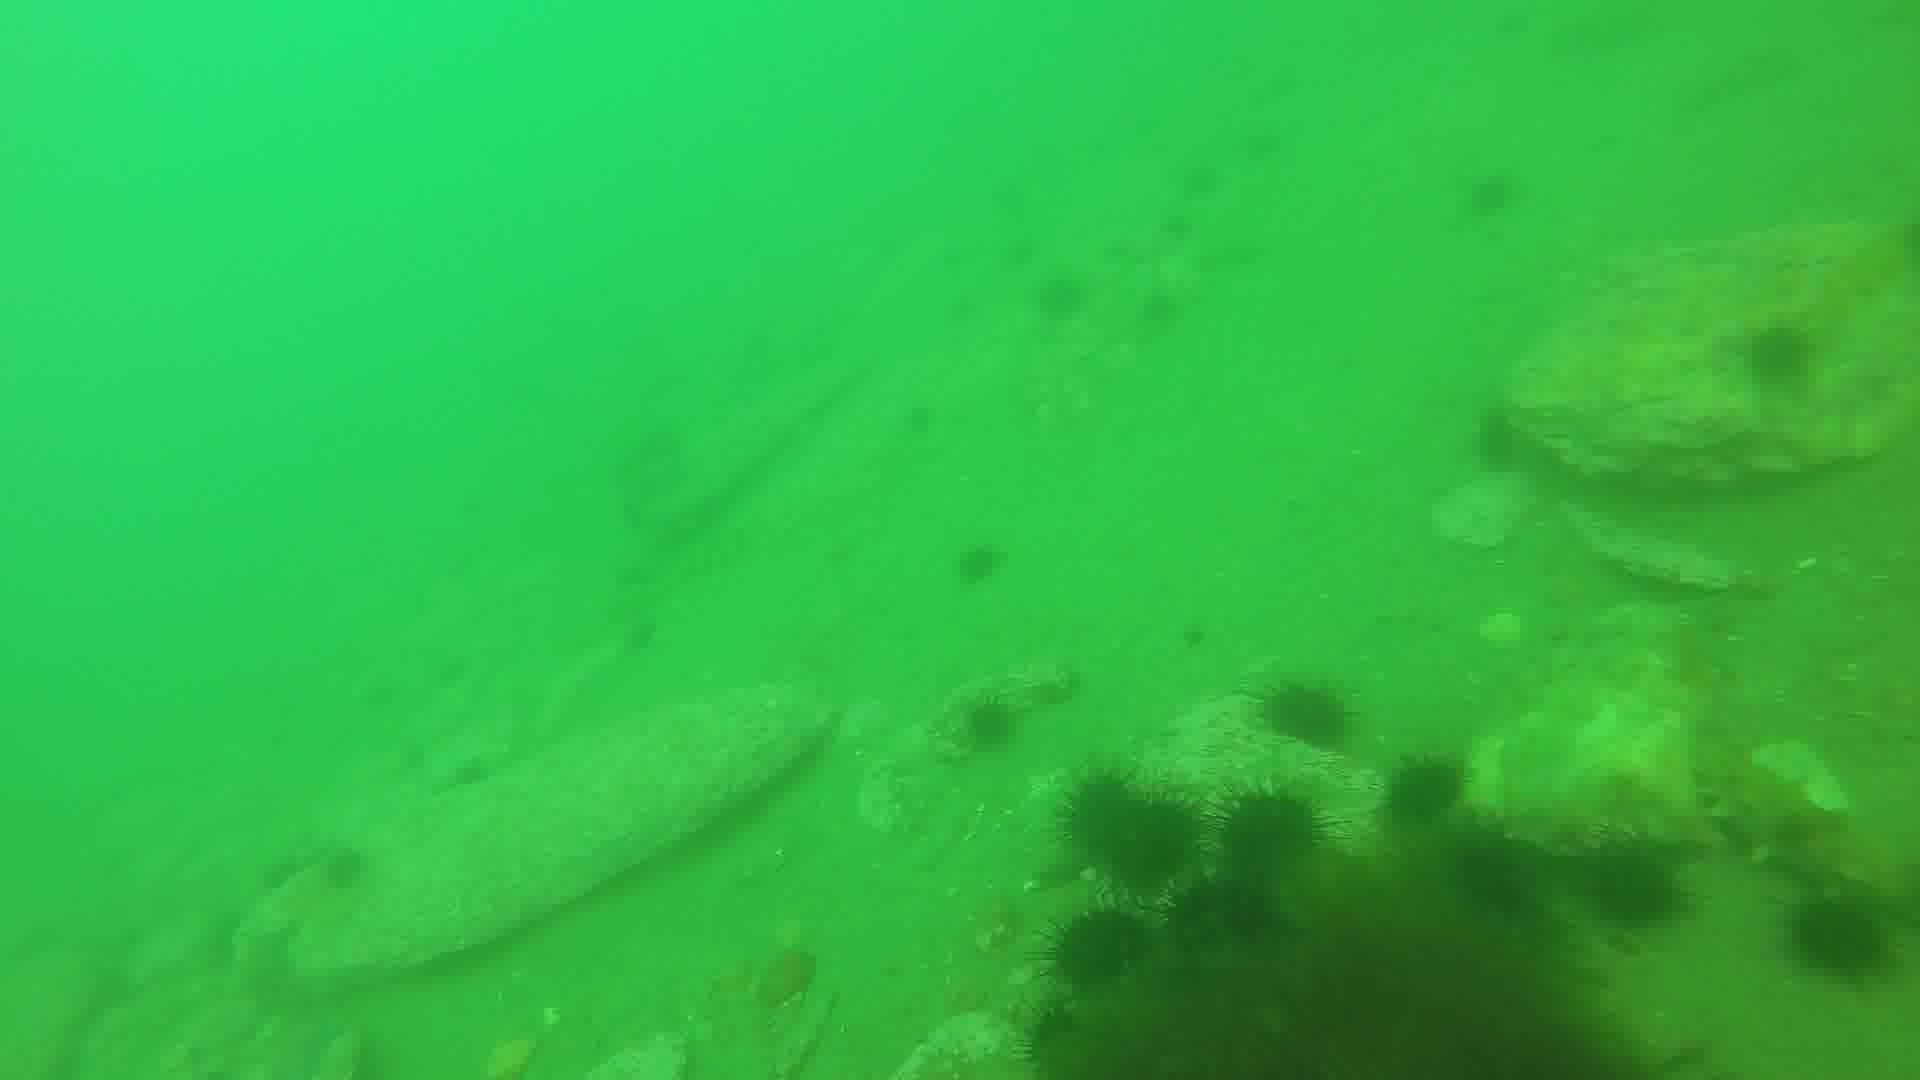echinus: (1212, 785, 1329, 882), (1098, 790, 1204, 894), (1783, 891, 1894, 985), (1043, 902, 1154, 996), (1164, 873, 1282, 960), (1054, 769, 1153, 866), (1582, 843, 1687, 934), (1447, 829, 1542, 920), (1255, 676, 1357, 756), (1015, 1000, 1116, 1076), (1379, 753, 1470, 832), (1739, 316, 1818, 390), (953, 691, 1025, 756), (1468, 404, 1530, 473), (1029, 270, 1092, 327), (1458, 166, 1522, 222), (314, 841, 375, 895), (949, 537, 1009, 589), (1133, 284, 1185, 339)
holothurian: (1697, 746, 1858, 893)
starfish: (235, 1011, 349, 1079)
